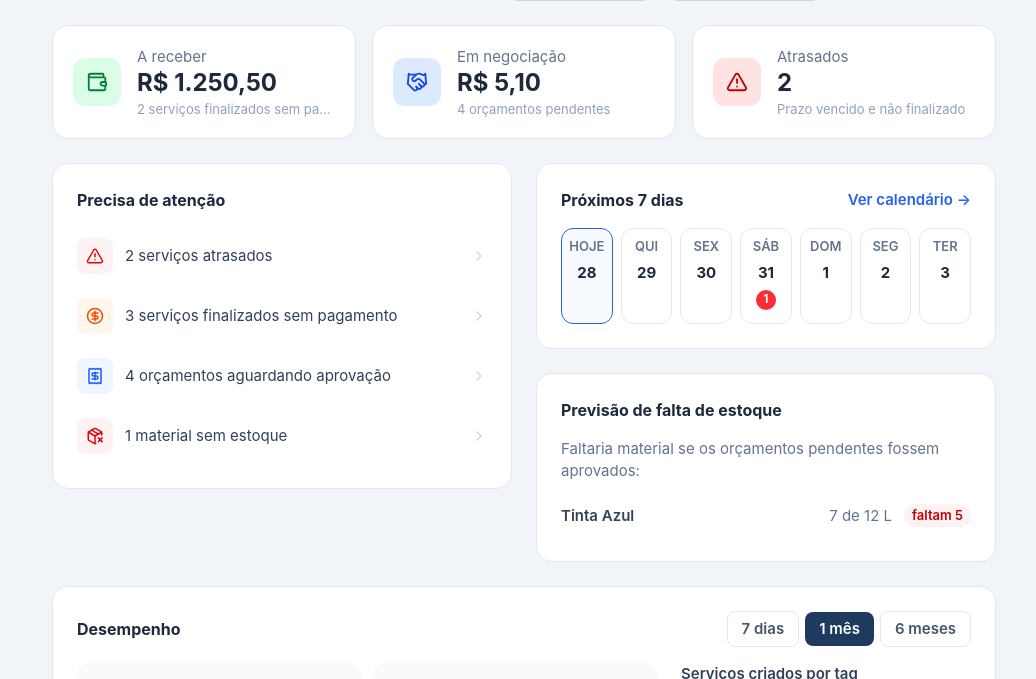
Test: tela inicial › pendência leva à tela já filtrada
The width and height of the screenshot is (1036, 679).
Click the button "3 serviços finalizados sem pagamento" at [282, 316], box 69,288 -> 495,344
(page scrolled)
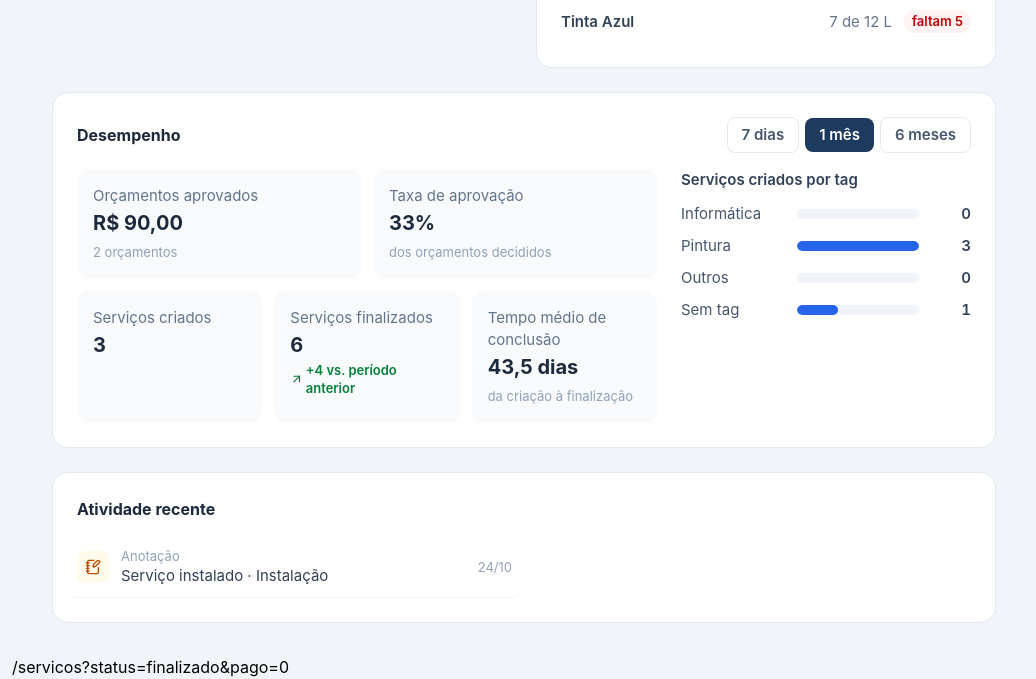
Result: the text with test id "local" reads "/servicos?status=finalizado&pago=0" at 12,657 -> 289,677
